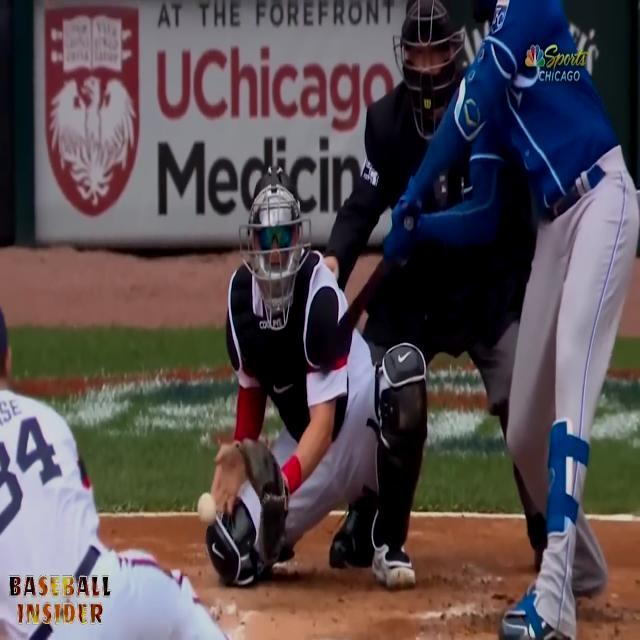ball: (198, 492, 216, 524)
